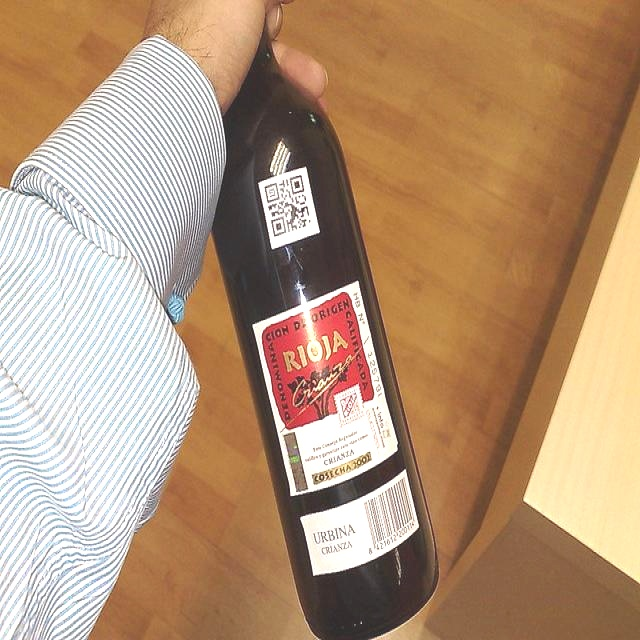qr-code: (264, 174, 311, 236)
